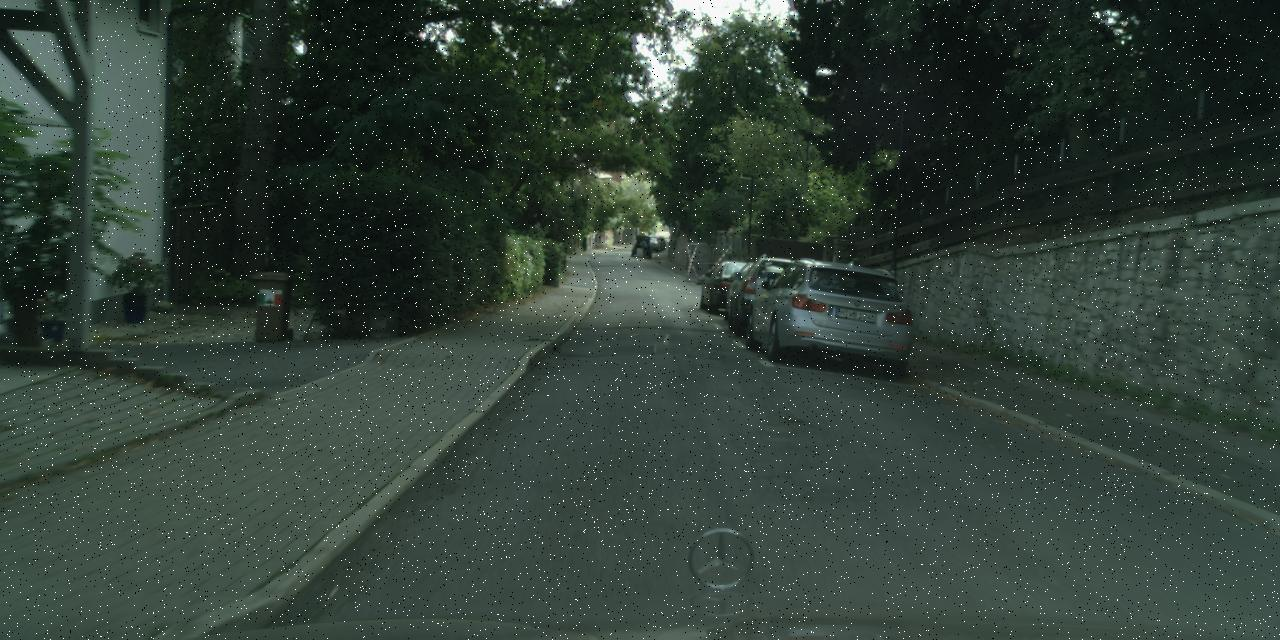ped: (640, 240, 647, 258)
